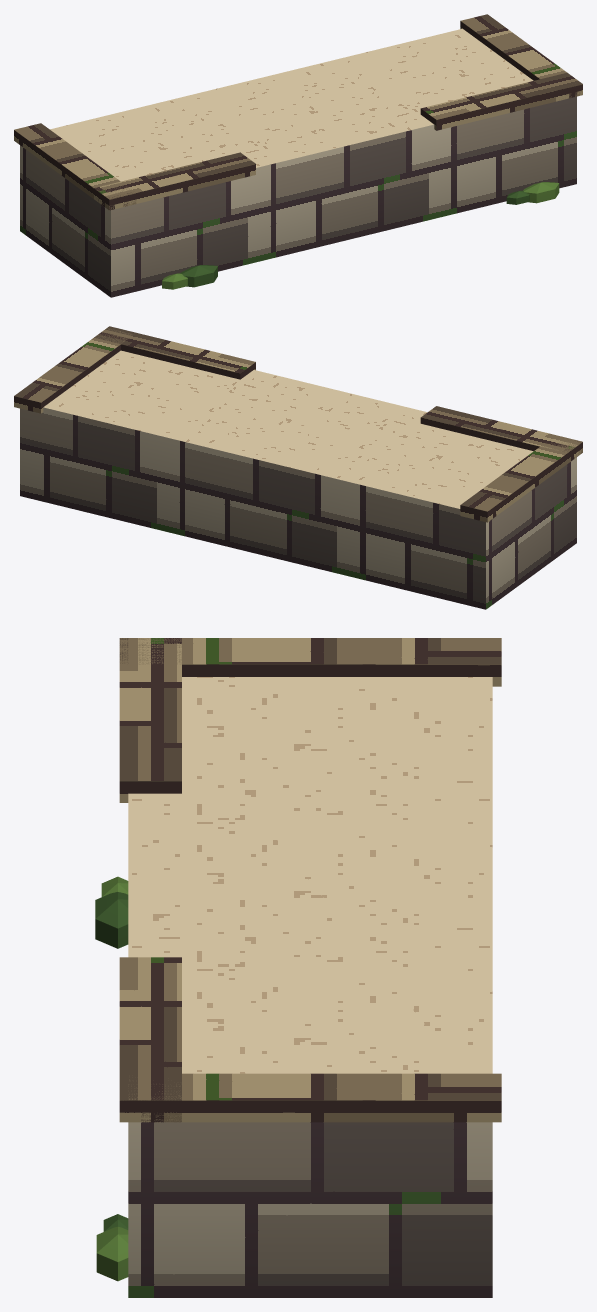
File: scene_plat_f2.glb
The picture shows the model from 3 angles, top to bottom: view 1: azimuth 30°, elevation 25°; view 2: azimuth 150°, elevation 25°; view 3: azimuth 270°, elevation 25°; orthographic projection. The views are drawn at different scales.
Visible parts, largest first — view 1: scene_plat_f2; view 2: scene_plat_f2; view 3: scene_plat_f2.
Boxes of the visible parts, x1,y1,x2,y2 form: scene_plat_f2: (14, 14, 582, 297); scene_plat_f2: (14, 326, 582, 609); scene_plat_f2: (95, 638, 501, 1297).
Size of the model in its own units: 6.3 by 1.37 by 2.34.
3 materials, 2 textured.
